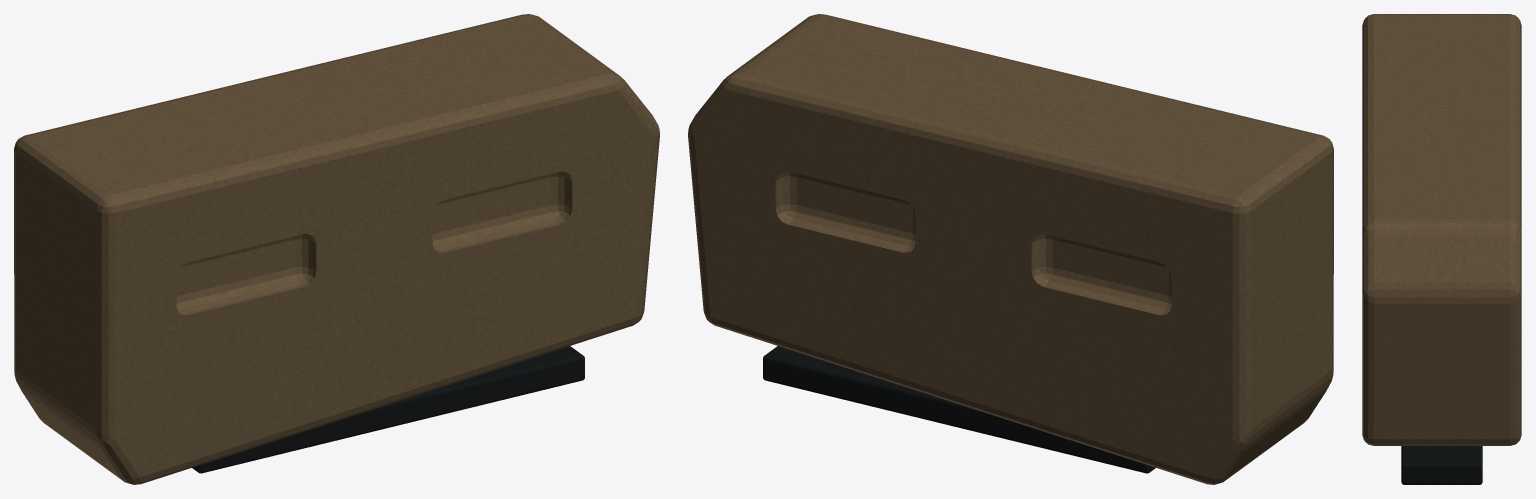
Rendered from wisp02.handguard.standard.glb.
3 renders of one model, left to right at view 1: azimuth 30°, elevation 25°; view 2: azimuth 150°, elevation 25°; view 3: azimuth 270°, elevation 25°, orthographic. The views are drawn at different scales.
Parts seen in each view (by area): view 1: VIS_wisp02_handguard_standard; view 2: VIS_wisp02_handguard_standard; view 3: VIS_wisp02_handguard_standard.
Part boxes in pixels (x1,y1,x2,y2): VIS_wisp02_handguard_standard: (14,14,659,484); VIS_wisp02_handguard_standard: (688,14,1333,484); VIS_wisp02_handguard_standard: (1362,14,1521,484).
Bounding box in the file's own units: 0.1886 × 0.102 × 0.055.
3 materials, 3 textured.
